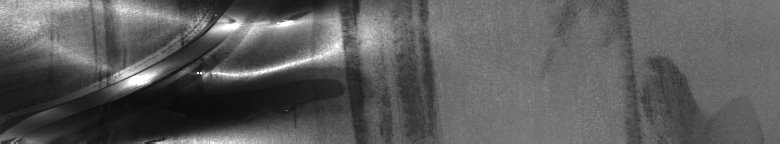ke: (4, 4, 360, 136)
